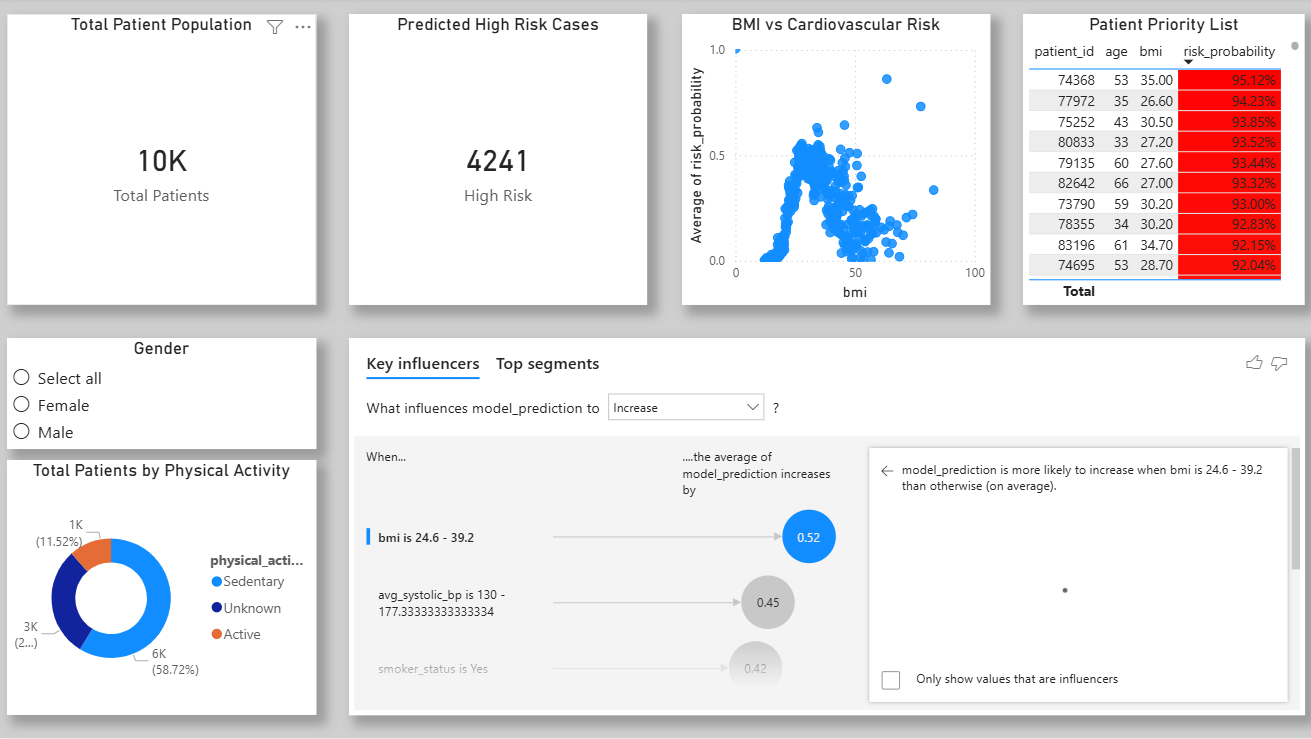

What the dashboard file says about the page in this screenshot:
{"tool":"powerbi","page":{"name":"Page 1","canvas":[1280,720],"ordinal":0},"visuals":[{"type":"keyDriversVisual","fields":{"Target":["ml_cardiovascular_predictions.model_prediction"],"ExplainBy":["ml_cardiovascular_predictions.bmi","ml_cardiovascular_predictions.avg_systolic_bp","ml_cardiovascular_predictions.age","ml_cardiovascular_predictions.smoker_status"]},"box":[341.4,330.7,929.8,366.7],"z":0},{"type":"card","title":"Total Patient Population","fields":{"Values":["ml_cardiovascular_predictions.Total Patients"]},"box":[8.8,15.6,300.5,283],"z":1000},{"type":"listSlicer","title":"Gender","fields":{"Values":["ml_cardiovascular_predictions.gender"]},"box":[8.8,330.7,300.5,108],"z":2000},{"type":"tableEx","title":"Patient Priority List","fields":{"Values":["ml_cardiovascular_predictions.patient_id","ml_cardiovascular_predictions.age","ml_cardiovascular_predictions.bmi","ml_cardiovascular_predictions.risk_probability"]},"box":[997,15.6,274.3,283],"z":3000},{"type":"card","title":"Predicted High Risk Cases","fields":{"Values":["ml_cardiovascular_predictions.High Risk"]},"box":[341.4,15.6,289.8,283],"z":4000},{"type":"scatterChart","title":"BMI vs Cardiovascular Risk","fields":{"Y":["Avg(ml_cardiovascular_predictions.risk_probability)"],"X":["ml_cardiovascular_predictions.bmi"]},"box":[665.3,15.6,299.6,283],"z":4001},{"type":"donutChart","title":"Total Patients by Physical Activity","fields":{"Y":["ml_cardiovascular_predictions.Total Patients"],"Category":["ml_cardiovascular_predictions.physical_activity"]},"box":[8.8,449.4,300.5,248],"z":4002}]}

Visuals, with their boxes in screenshot pixels (x1, y1, x2, y2), scaled from the page's 1280x720 canvas onto the 1311x739 screenshot:
keyDriversVisual - ml_cardiovascular_predictions.model_prediction x ml_cardiovascular_predictions.bmi: <region>350, 339, 1302, 716</region>
"Total Patient Population" card: <region>9, 16, 317, 306</region>
"Gender" listSlicer: <region>9, 339, 317, 450</region>
"Patient Priority List" tableEx: <region>1021, 16, 1302, 306</region>
"Predicted High Risk Cases" card: <region>350, 16, 646, 306</region>
"BMI vs Cardiovascular Risk" scatterChart: <region>681, 16, 988, 306</region>
"Total Patients by Physical Activity" donutChart: <region>9, 461, 317, 716</region>
